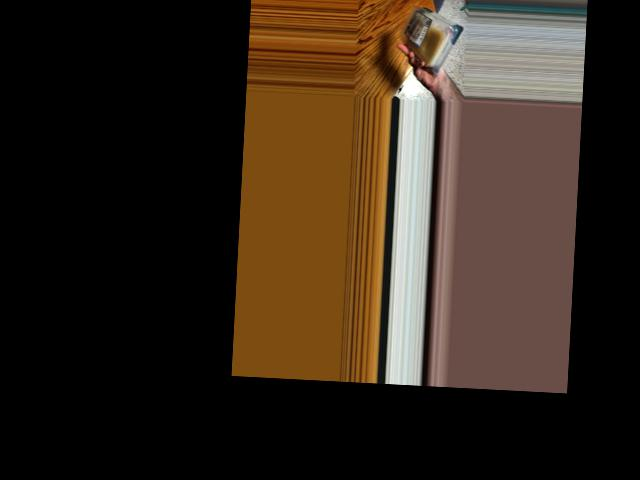cheese: (399, 1, 456, 71)
